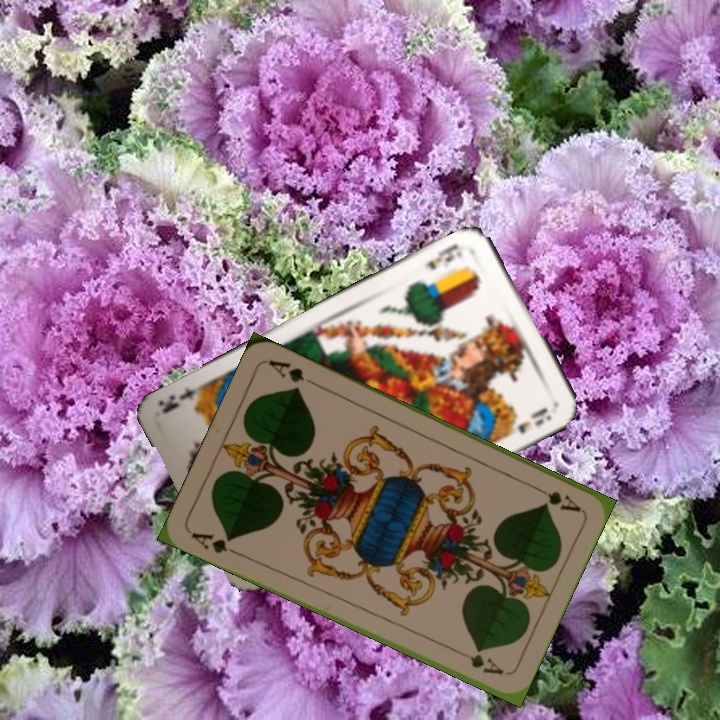EK: (421, 239, 468, 273)
GA: (528, 481, 584, 515), (187, 527, 243, 559)
